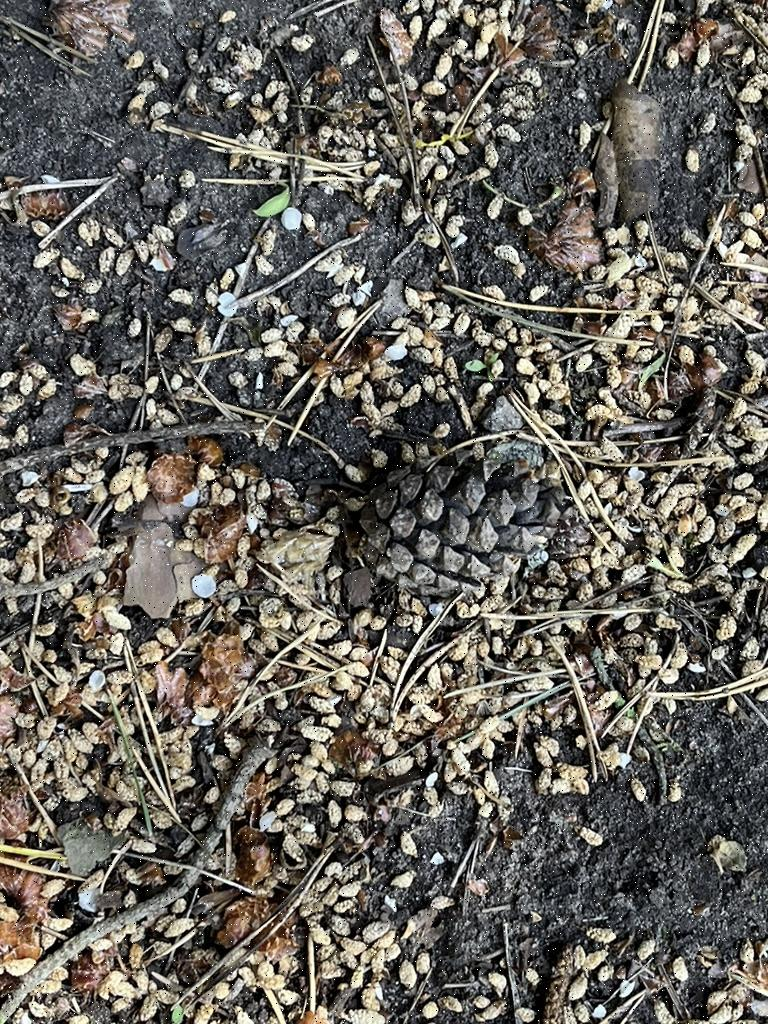pine: (336, 443, 584, 626)
